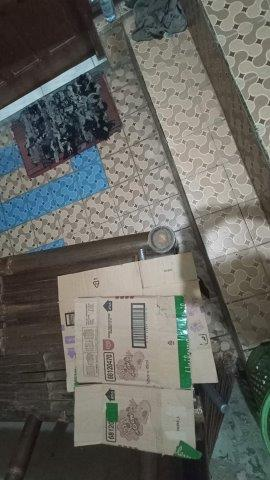kardus: (58, 255, 216, 456)
